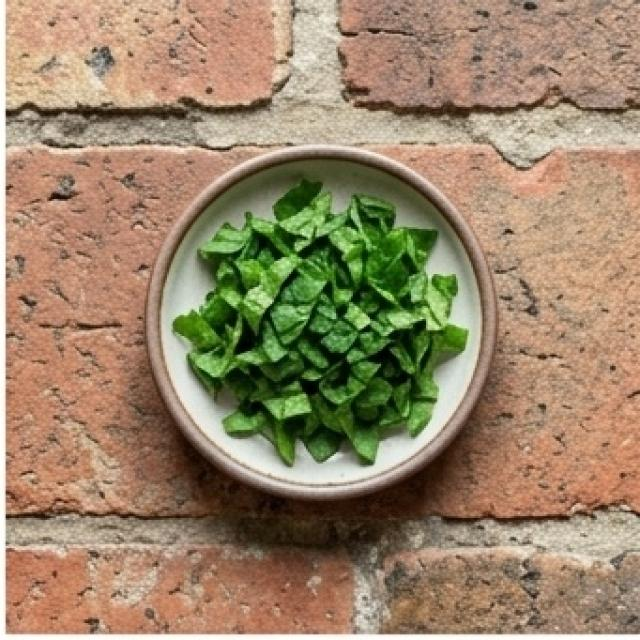spinach: (79, 118, 566, 551)
